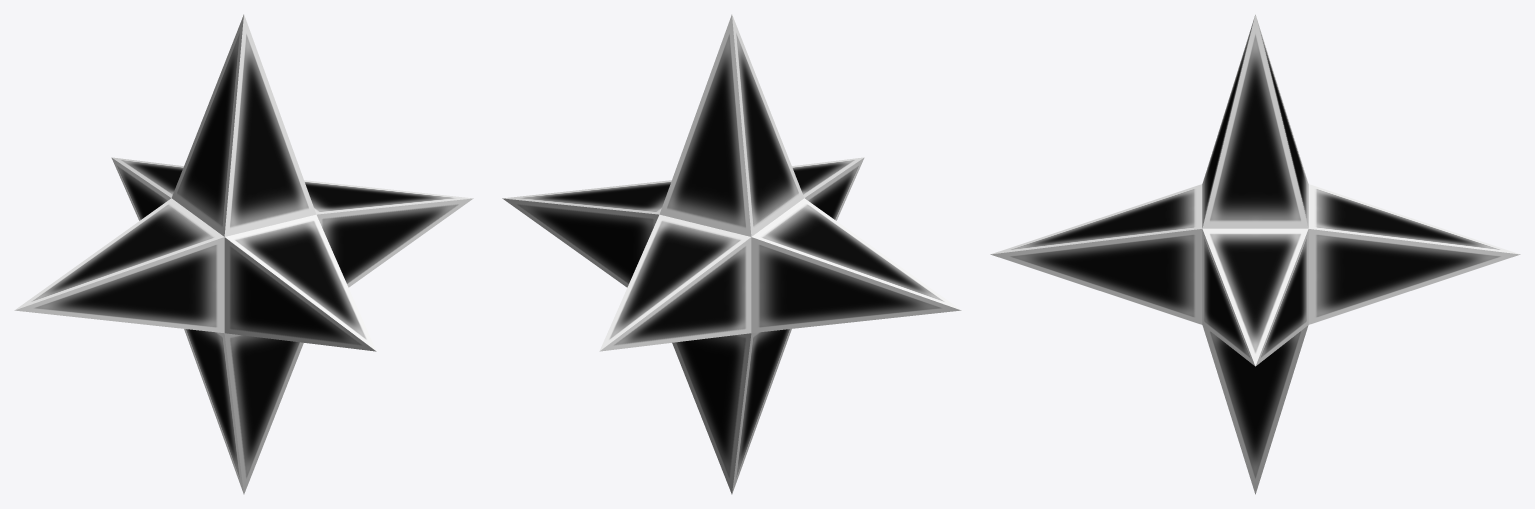
File: Star.fbx
3 views of the same model, side by side, from view 1: azimuth 30°, elevation 25°; view 2: azimuth 150°, elevation 25°; view 3: azimuth 270°, elevation 25° (orthographic).
Visible parts, largest first — view 1: Star; view 2: Star; view 3: Star.
Boxes of the visible parts, x1,y1,x2,y2 form: Star: [14, 14, 473, 494]; Star: [502, 14, 961, 494]; Star: [990, 14, 1520, 494].
Bounding box in the file's own units: 10 × 10 × 10.
